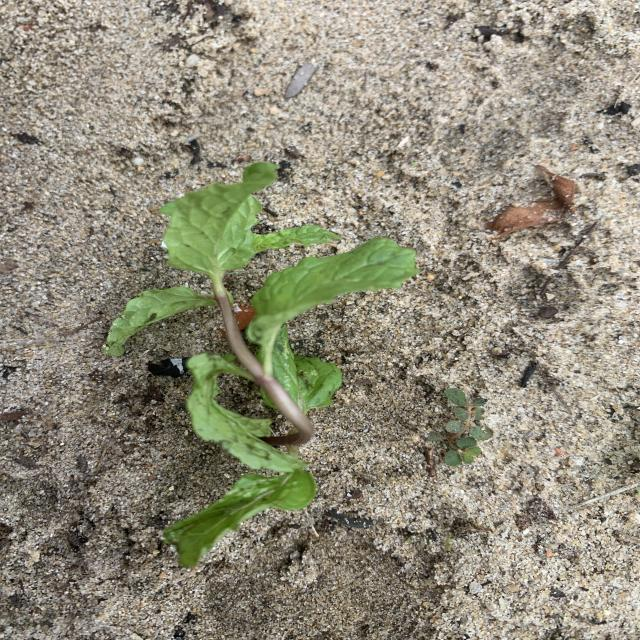crop: (105, 162, 418, 567)
weed: (426, 388, 493, 467), (443, 532, 454, 552)
